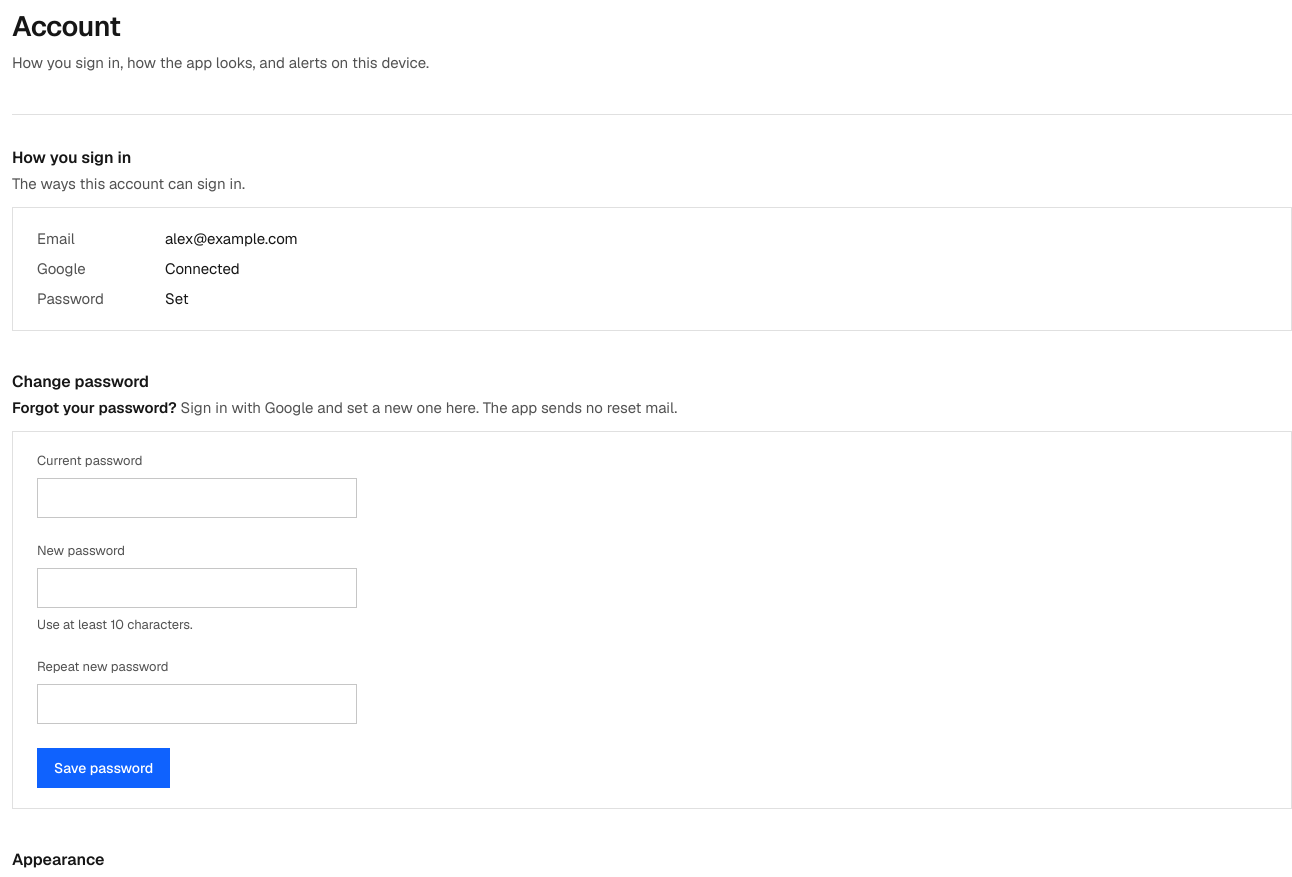
account page › changes a password with the current one, and says when that one is wrong
This screenshot has width=1292, height=877.
Expected: the form named "Change password" is shown, [37,452,357,788]
Type "a brand new password" into the password field labelled "New password". click: point(197, 588)
box: [37,568,357,608]
Type "a brand new password" into the password field labelled "Repeat new password". click: point(197, 704)
box: [37,684,357,724]
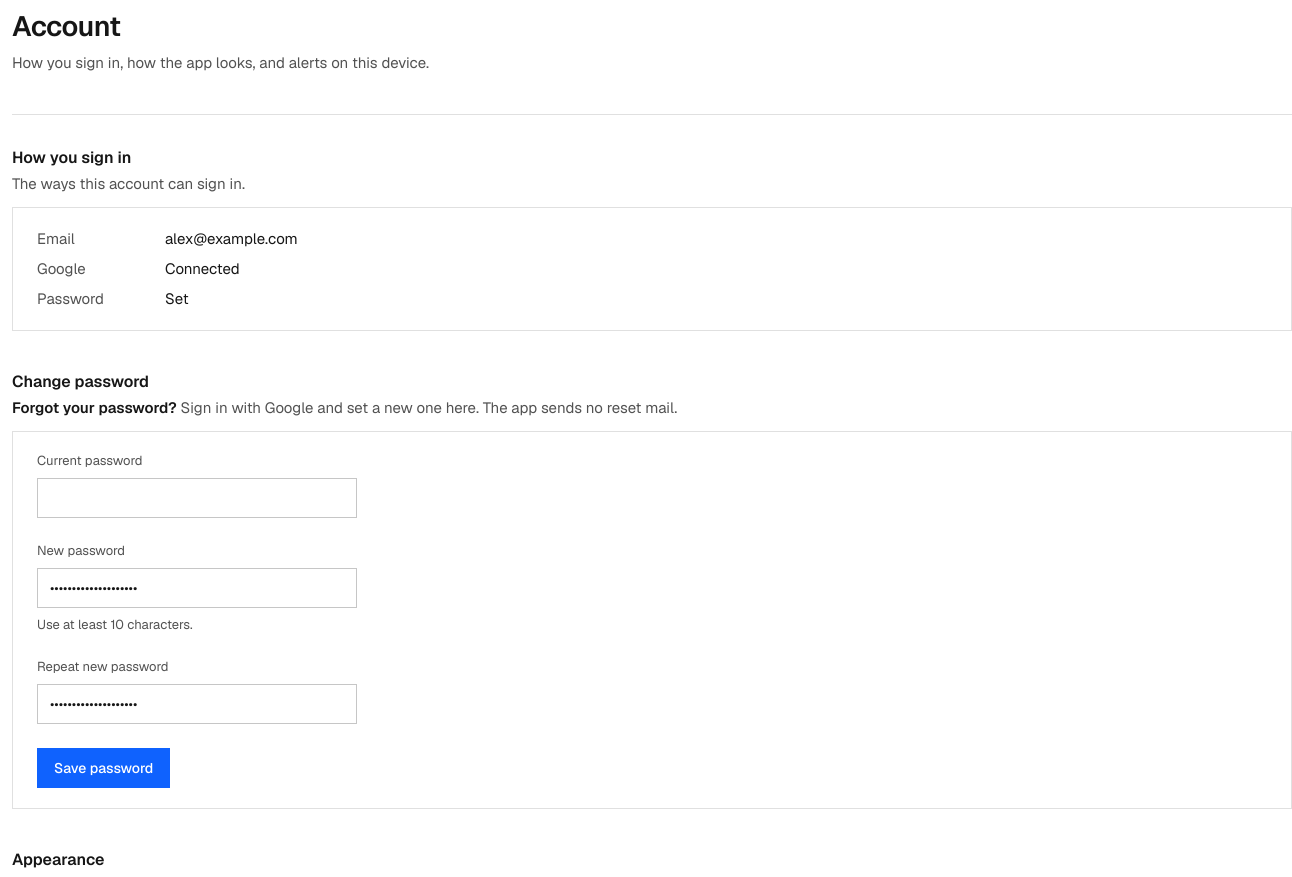
Click the button "Save password". click: point(104, 768)
box: [37,748,170,788]
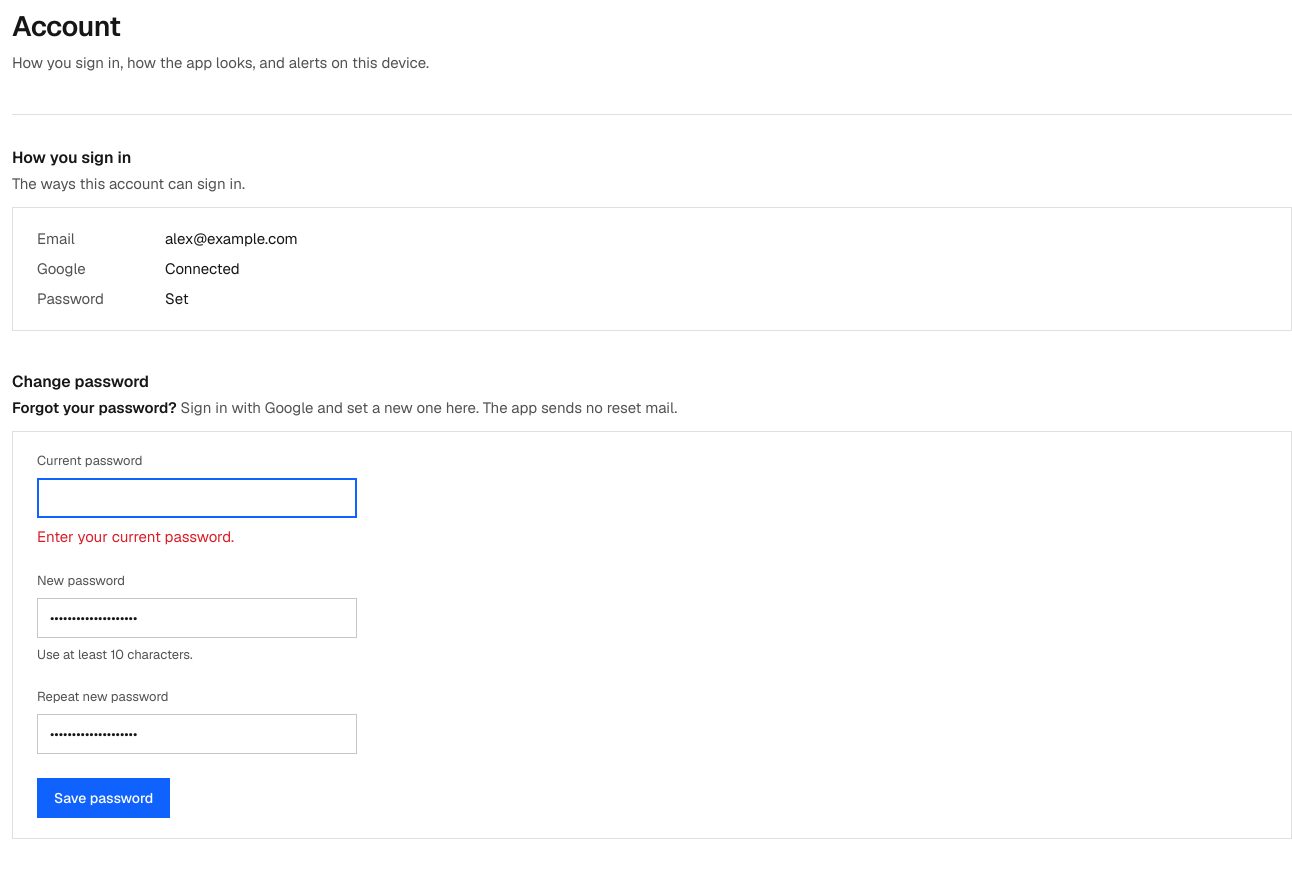
Expected: the text "Enter your current password." is shown, [37,527,234,546]
Type "not the password" into the password field labelled "Current password". click: point(197, 498)
box: [37,478,357,518]
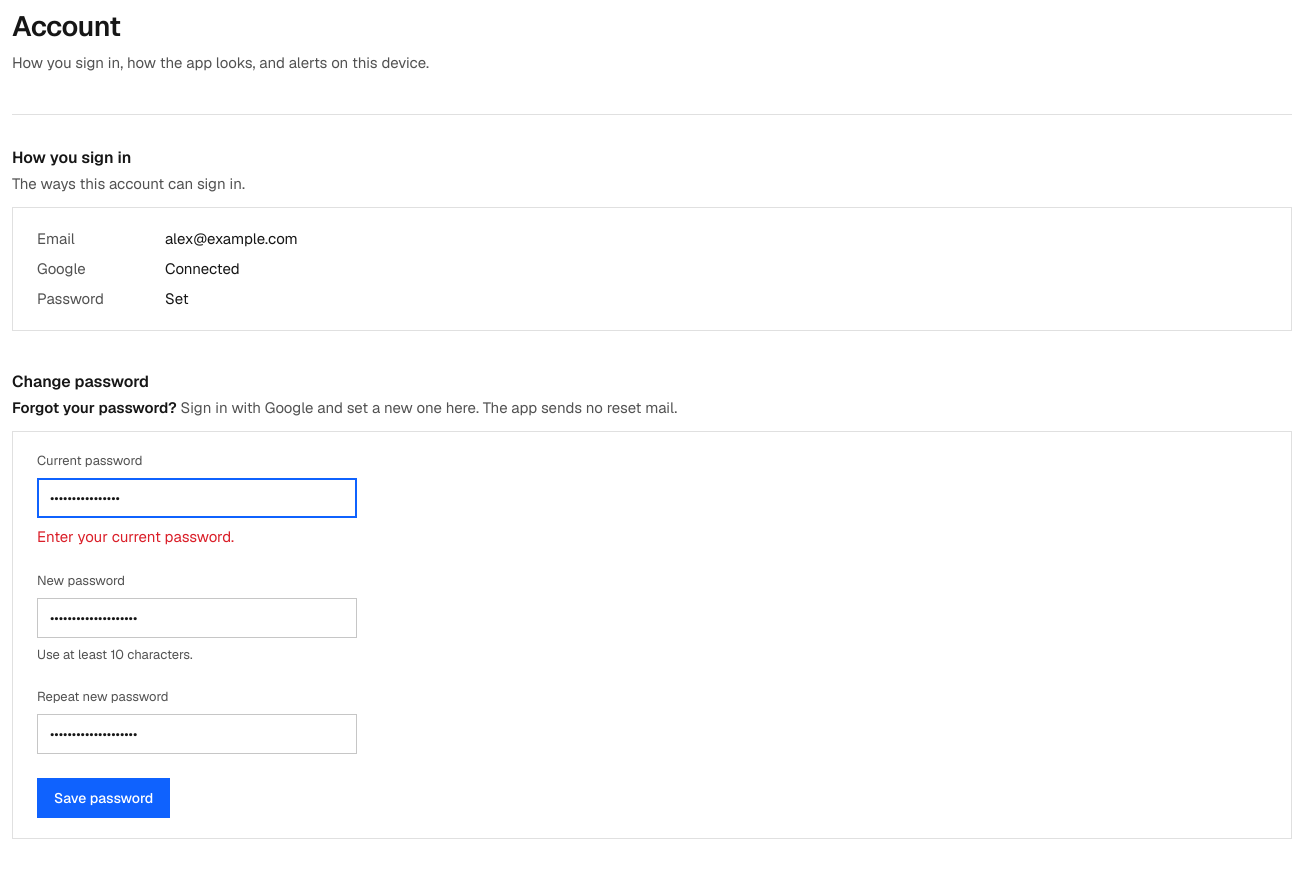
Click the button "Save password". click: point(104, 798)
box: [37,778,170,818]
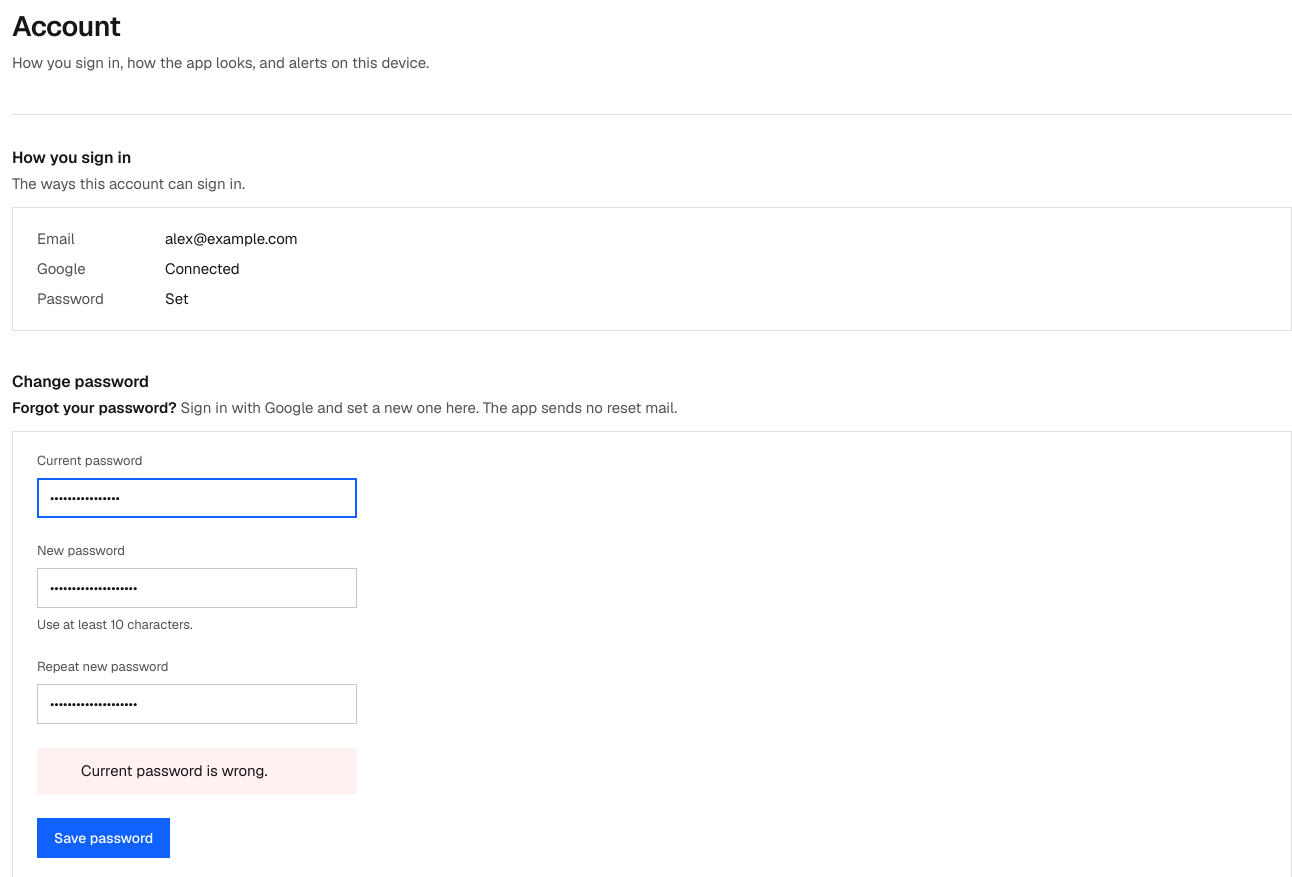
Expected: the message reads "Current password is wrong.", [81,761,268,780]
Type "correct horse battery" into the password field labelled "Current password". click: point(197, 498)
box: [37,478,357,518]
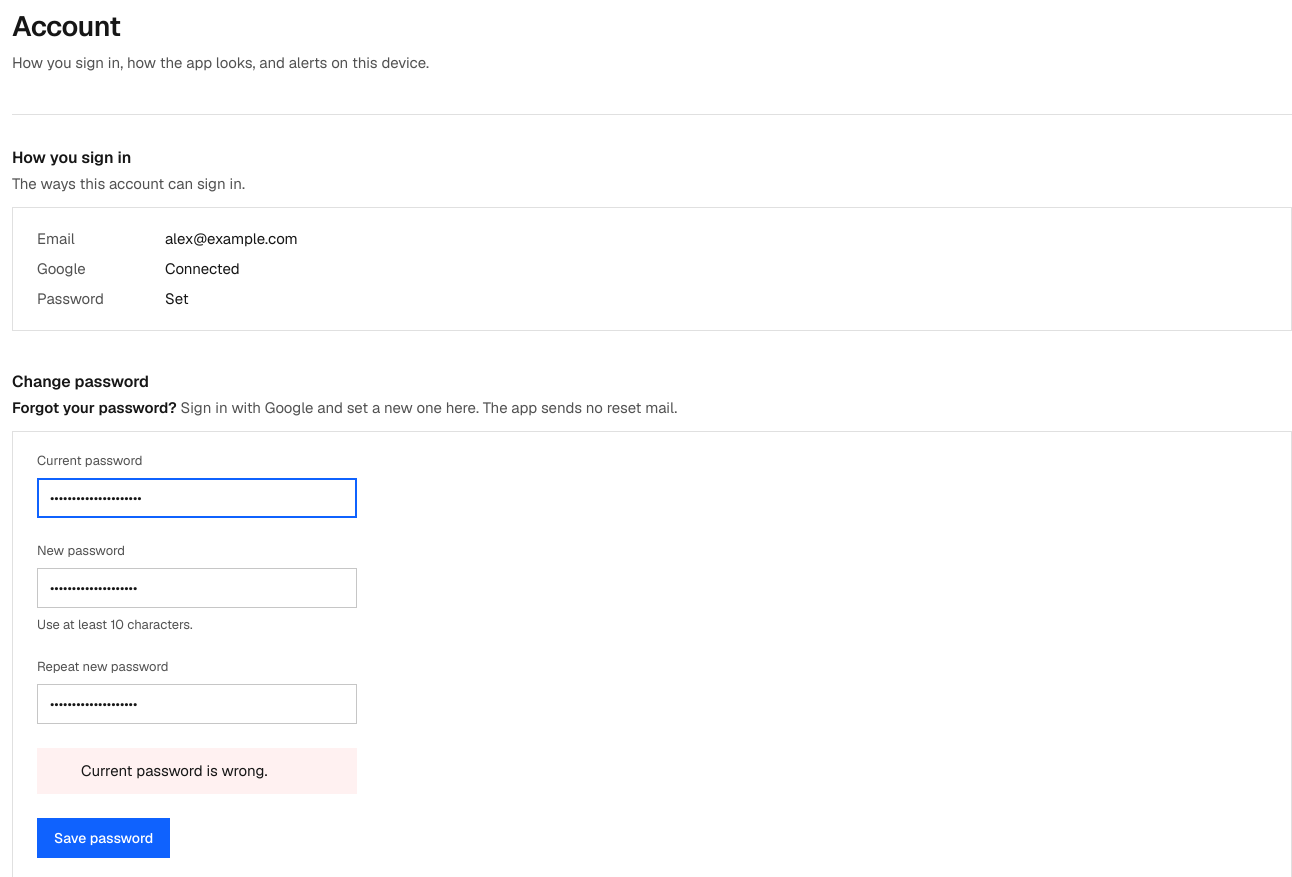
Click the button "Save password". click: point(104, 838)
box: [37,818,170,858]
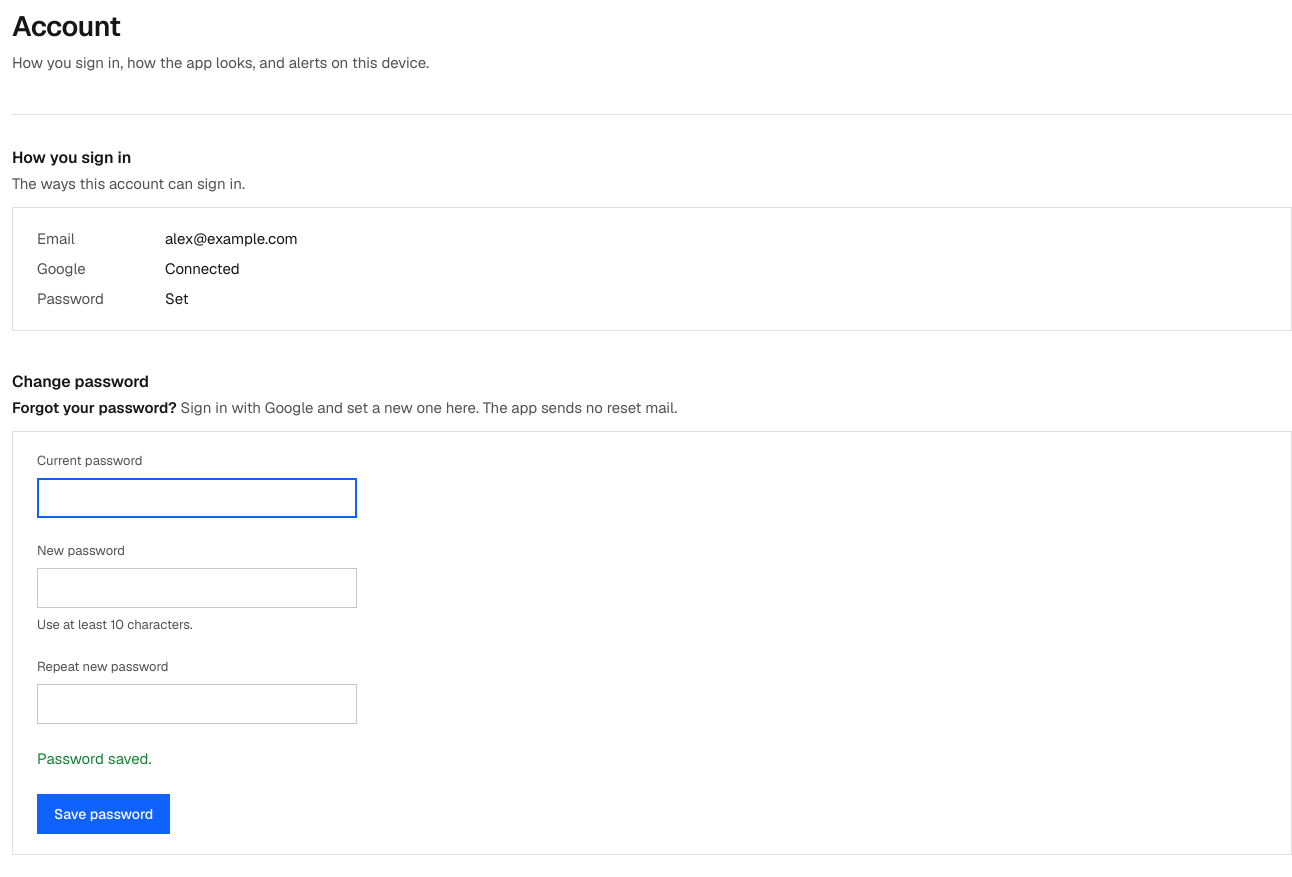
Expected: the text "Password saved." is shown, [37,749,151,768]
